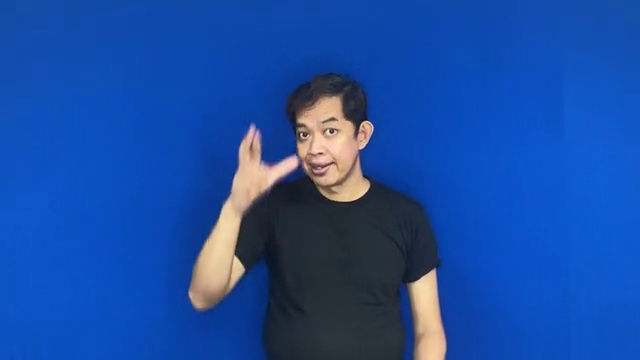chicken: (219, 117, 304, 214)
